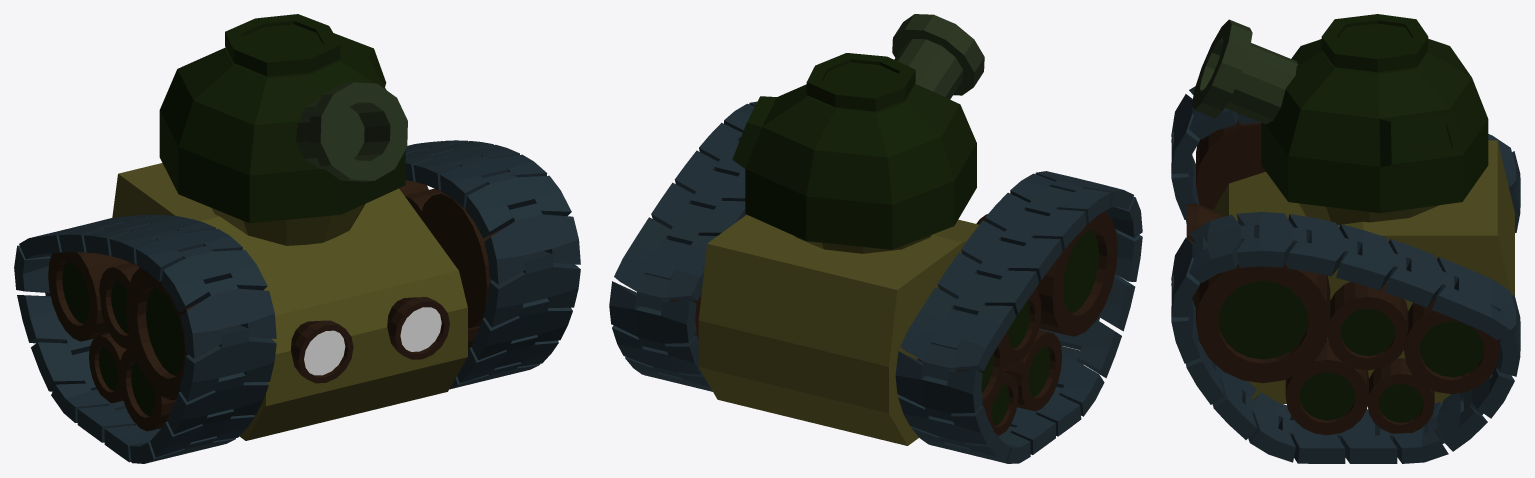
The model's file is big tank.fbx.
3 views of the same model, side by side, from view 1: azimuth 30°, elevation 25°; view 2: azimuth 150°, elevation 25°; view 3: azimuth 270°, elevation 25° (orthographic). The views are drawn at different scales.
Visible parts, largest first — view 1: Plane.017; view 2: Plane.017; view 3: Plane.017.
Part boxes in pixels (x1,y1,x2,y2): Plane.017: (14,14,580,463); Plane.017: (609,14,1142,463); Plane.017: (1171,14,1520,463).
Bounding box in the file's own units: 383 × 339 × 309.
